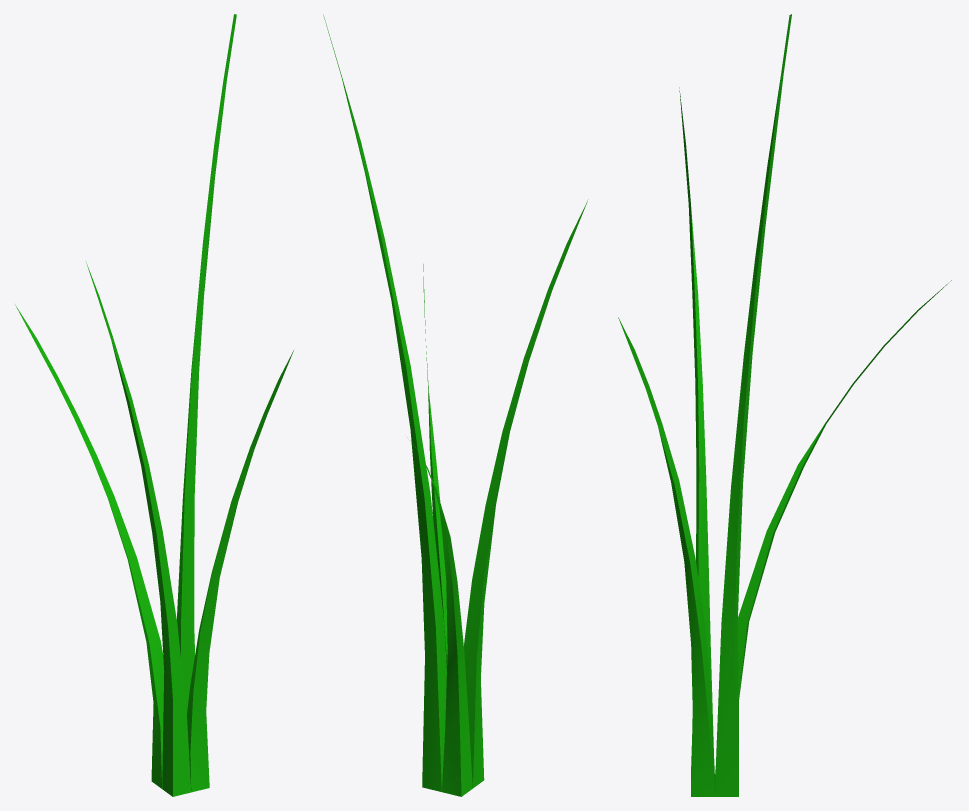
Rendered from Grass.fbx.
The picture shows the model from 3 angles, left to right: view 1: azimuth 30°, elevation 25°; view 2: azimuth 150°, elevation 25°; view 3: azimuth 270°, elevation 25°; orthographic projection. The views are drawn at different scales.
Parts seen in each view (by area): view 1: Grass; view 2: Grass; view 3: Grass.
Boxes of the visible parts, <box> form: Grass: <box>15,14,293,796</box>; Grass: <box>323,14,588,796</box>; Grass: <box>618,14,951,796</box>.
Bounding box in the file's own units: 21.74 × 75.03 × 27.94.
